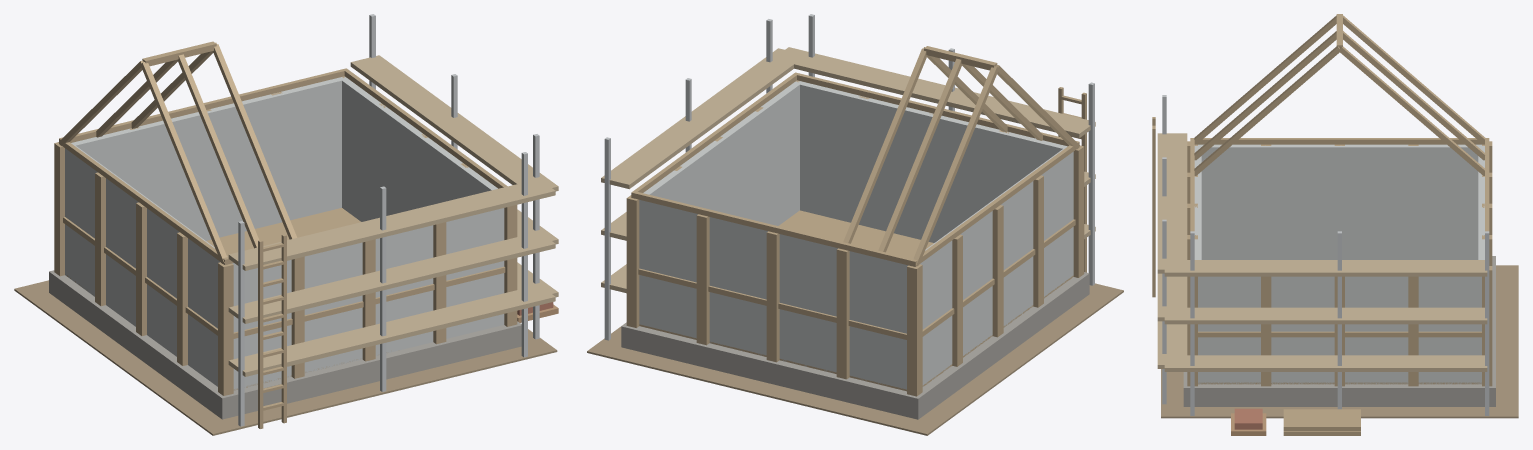
Rendered from spa_site_8.glb.
3 renders of one model, left to right at view 1: azimuth 30°, elevation 25°; view 2: azimuth 150°, elevation 25°; view 3: azimuth 270°, elevation 25°, orthographic. The views are drawn at different scales.
Visible parts, largest first — view 1: body; view 2: body; view 3: body.
Boxes of the visible parts, bbox=[...] form: body: bbox=[14, 14, 558, 435]; body: bbox=[587, 14, 1123, 435]; body: bbox=[1152, 14, 1518, 435].
Size of the model in its own units: 2.28 by 1.68 by 2.09.
